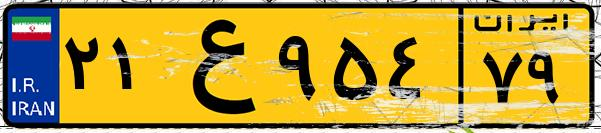1: (110, 28, 158, 98)
2: (57, 26, 110, 100)
4: (385, 28, 445, 110)
5: (330, 28, 385, 110)
7: (475, 38, 525, 113)
9: (270, 28, 330, 110), (525, 38, 570, 115)
ع: (158, 12, 270, 120)
